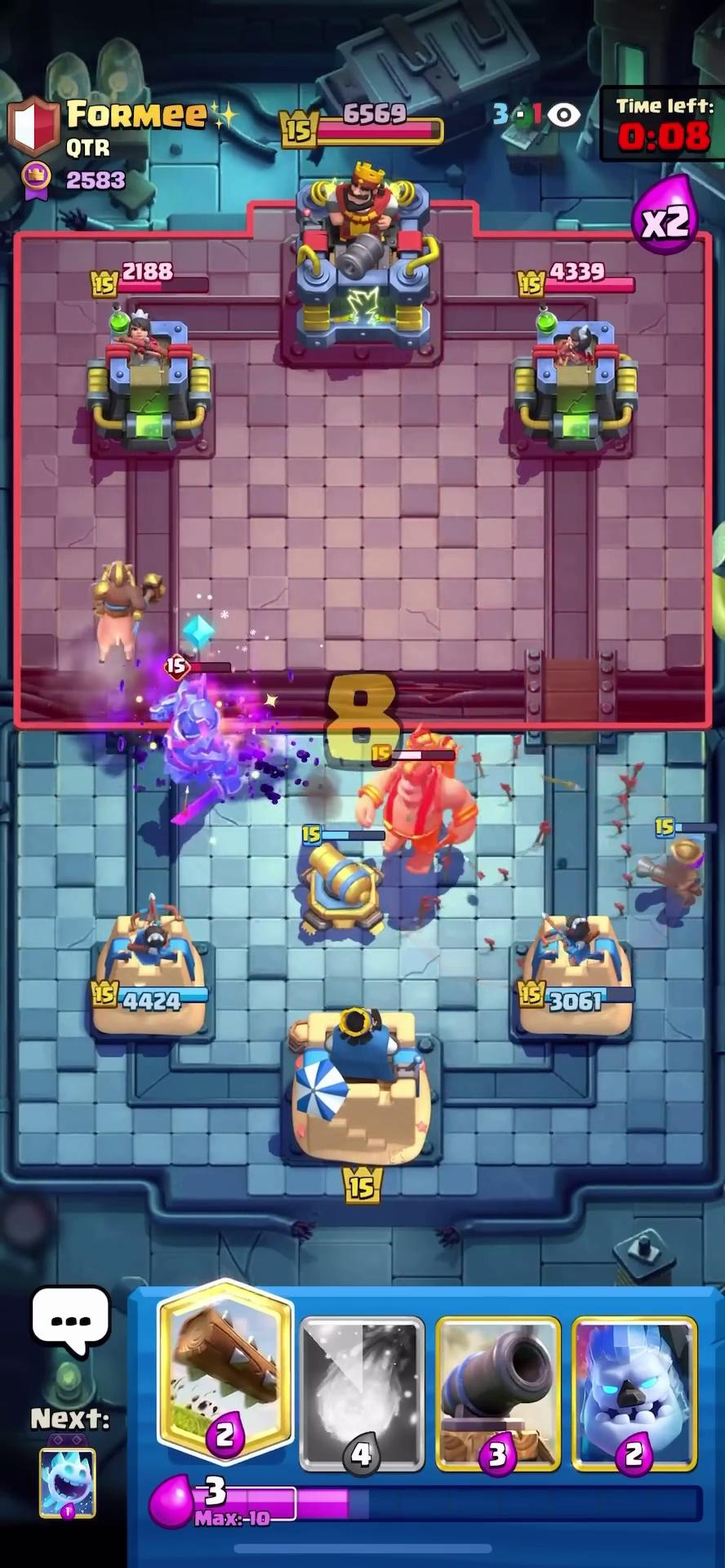cannon: (280, 815, 398, 937)
hog_rider: (63, 553, 163, 674)
musketeer: (645, 817, 725, 900)
